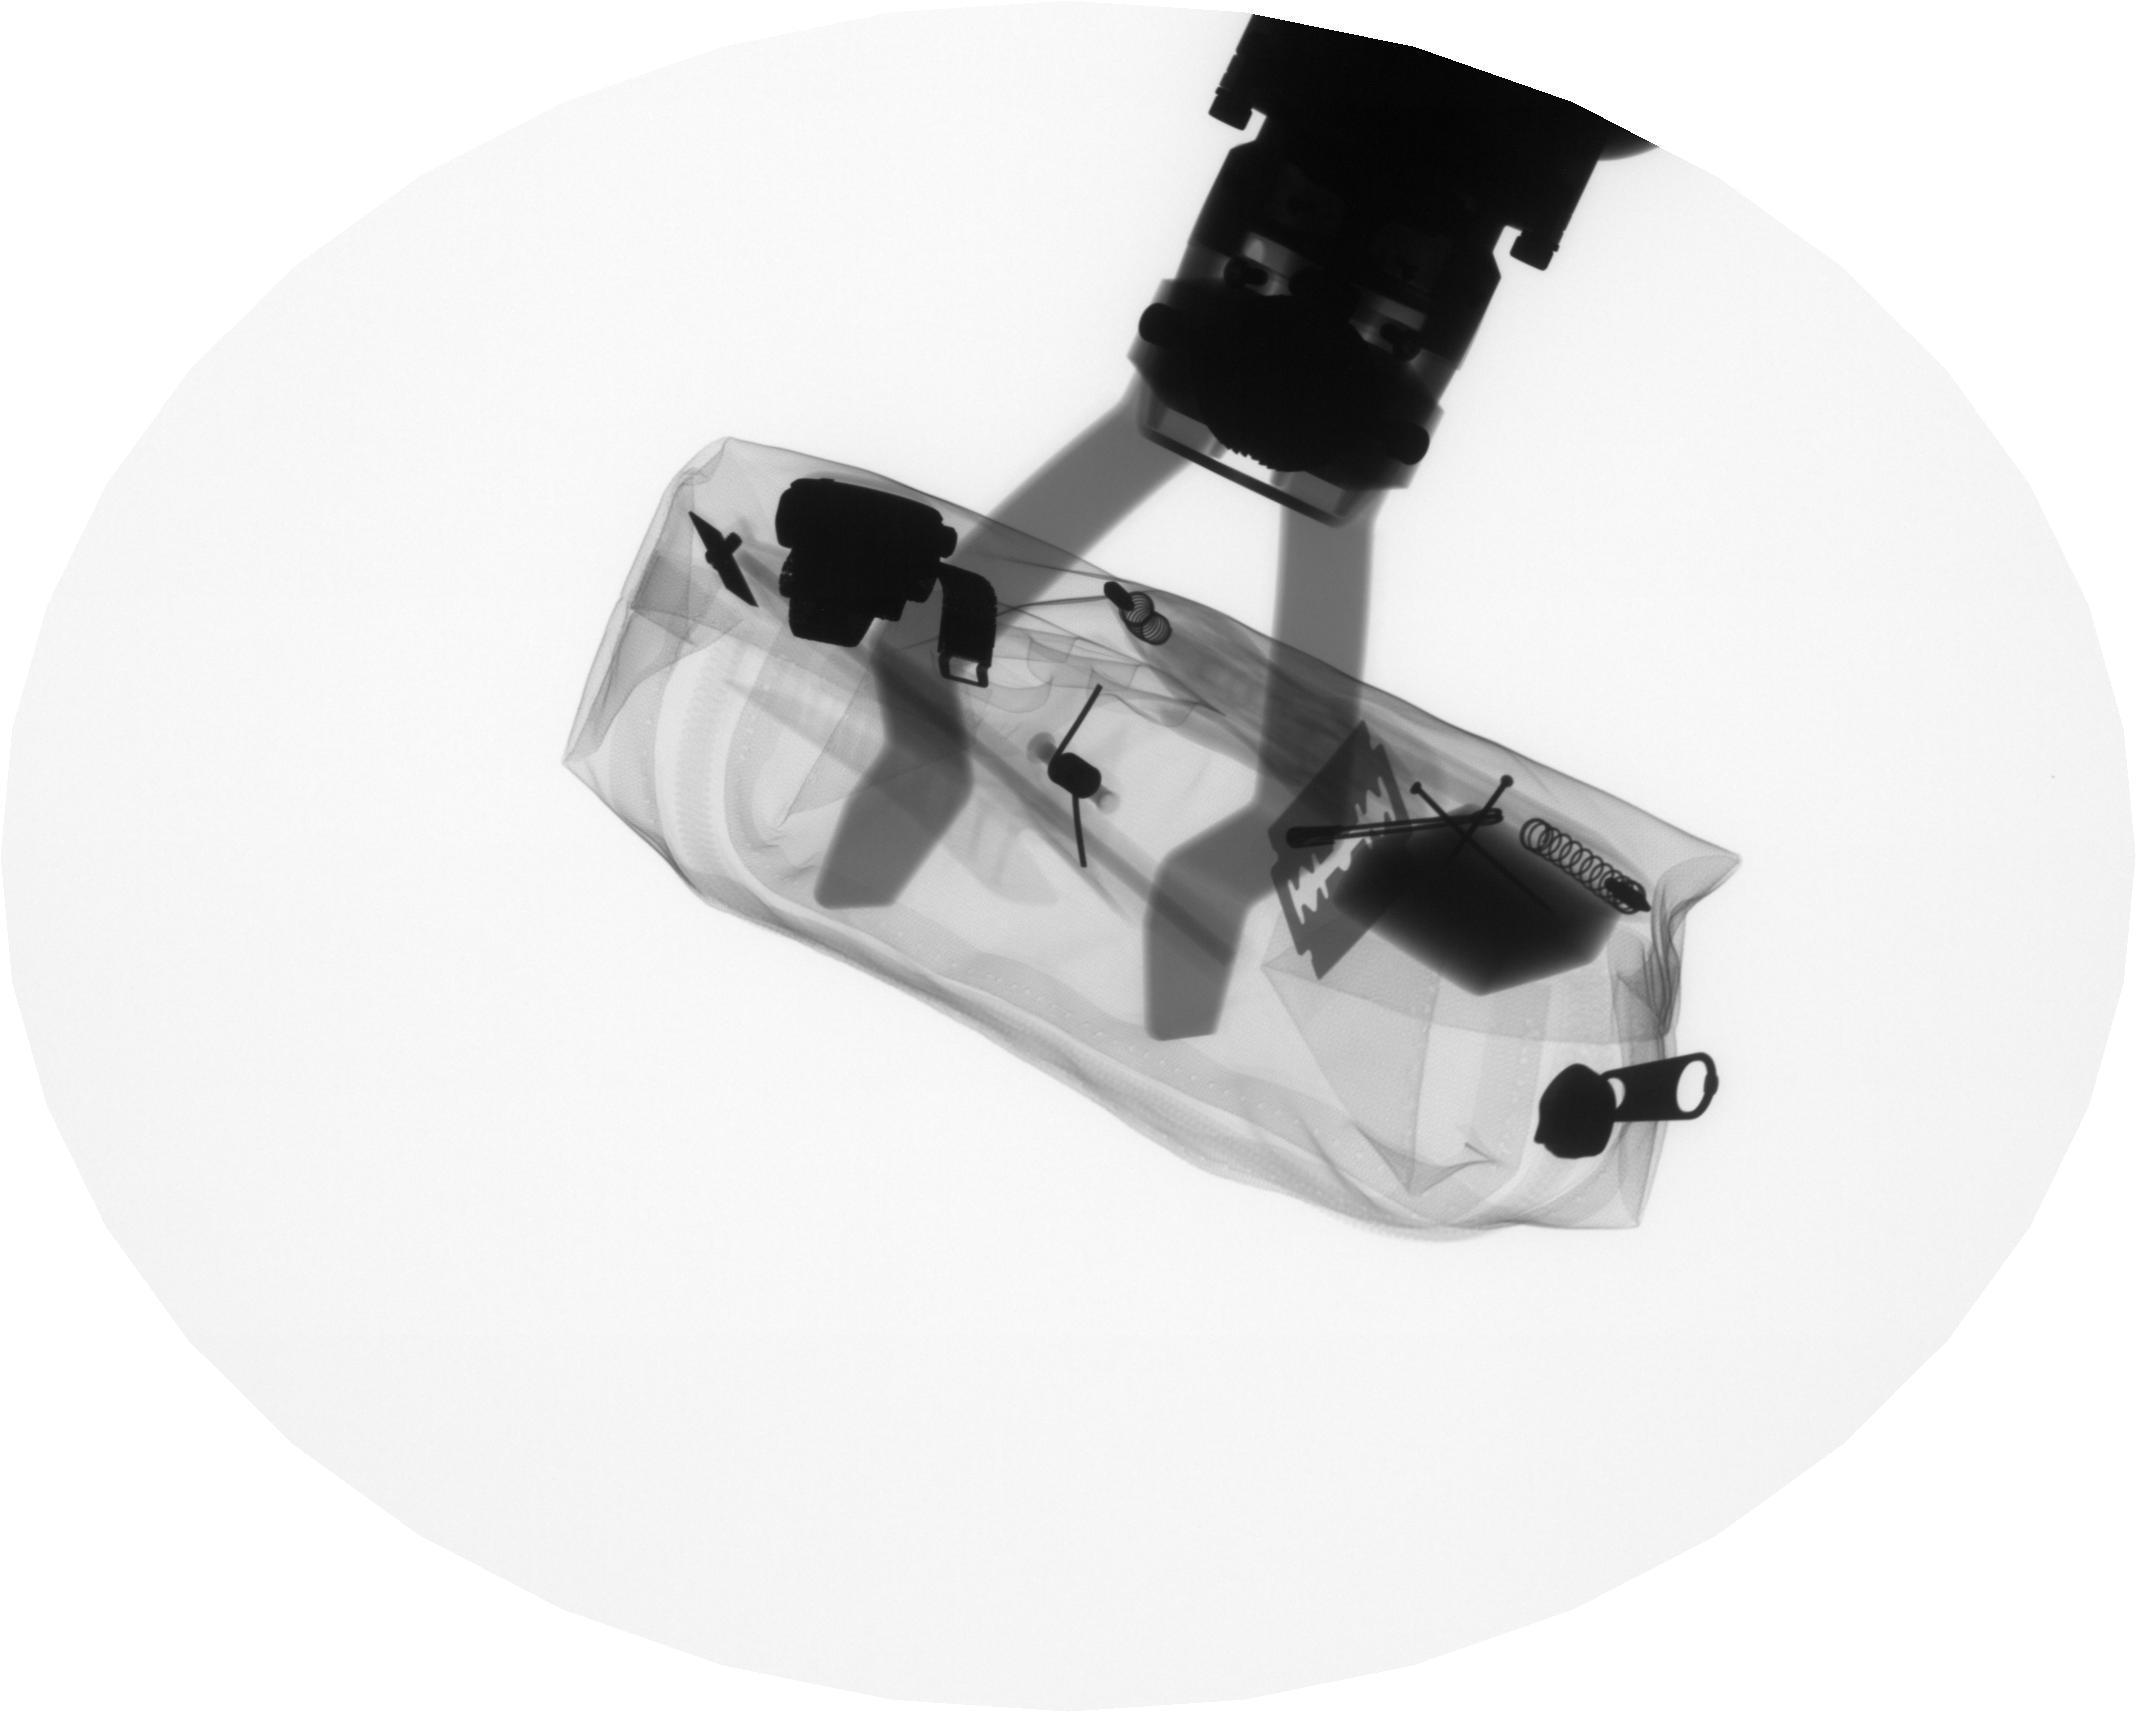RazorBlade: (1261, 715, 1424, 986)
